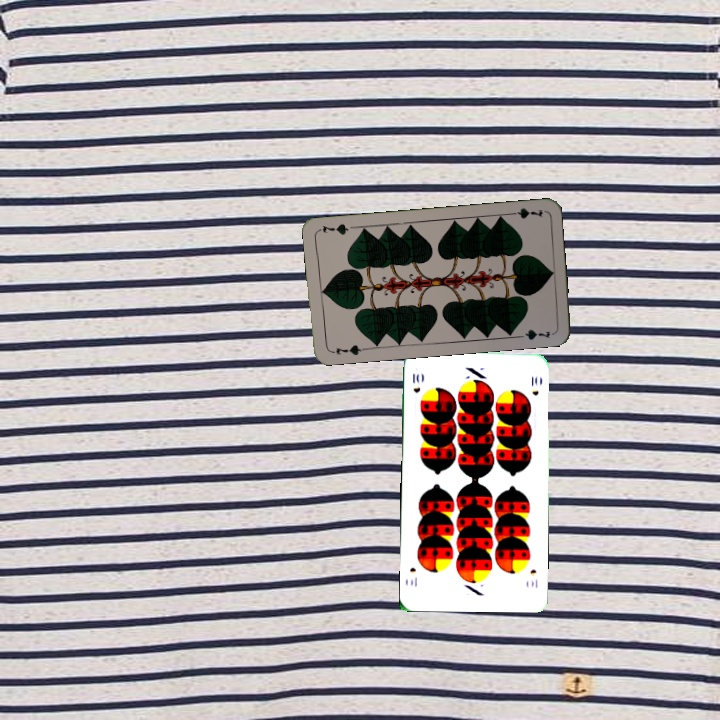G7: (505, 204, 545, 221), (327, 341, 367, 358)
S10: (526, 565, 540, 590), (409, 370, 422, 395)
